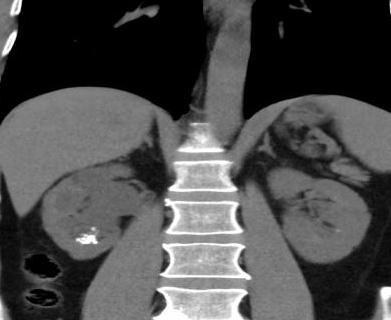Tas_Var: (77, 234, 101, 246), (90, 226, 100, 231), (92, 240, 99, 244), (74, 238, 81, 242), (82, 234, 88, 238), (82, 237, 86, 240)
